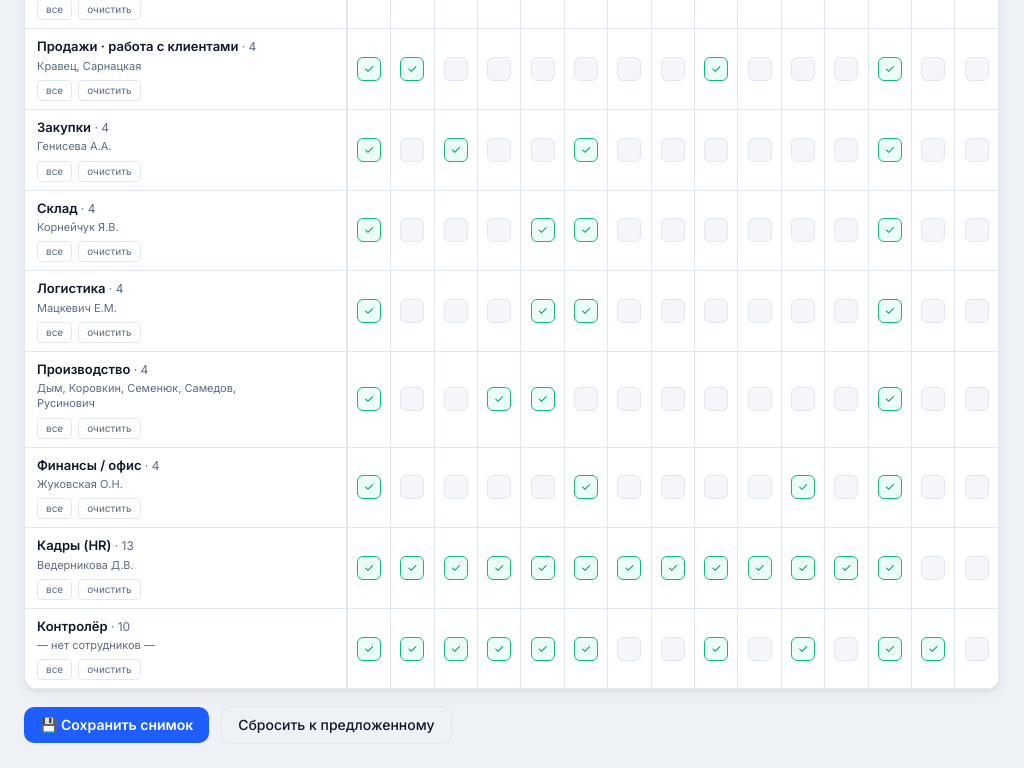
Test: AccessAdmin › «Сбросить к предложенному» возвращает изменённую строку и показывает тост
(page scrolled)
What coordinates should you click on to do the following:
click the button "очистить" below "— нет сотрудников —"
I would click on:
 (109, 670)
Its box is [78,659,141,680].
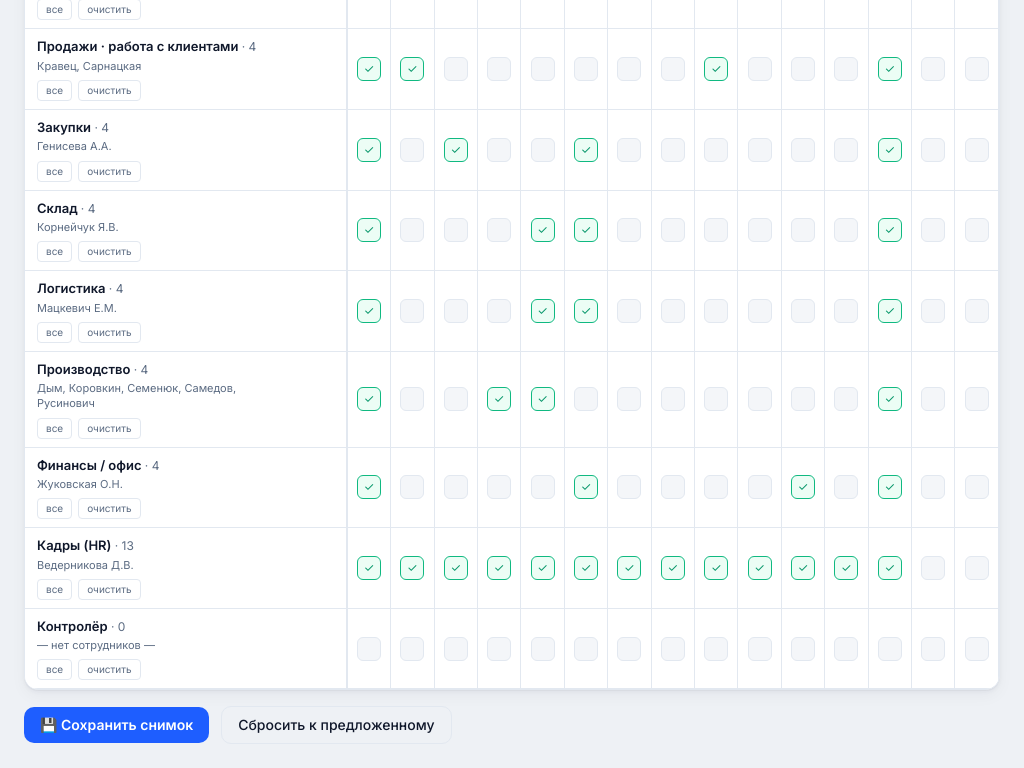
Result: the text "Контролёр" shows "· 0" at [25,609,999,689]
What coordinates should you click on to do the following:
click the button "Сбросить к предложенному"
I would click on:
 (336, 725)
Its box is [221,706,452,744].
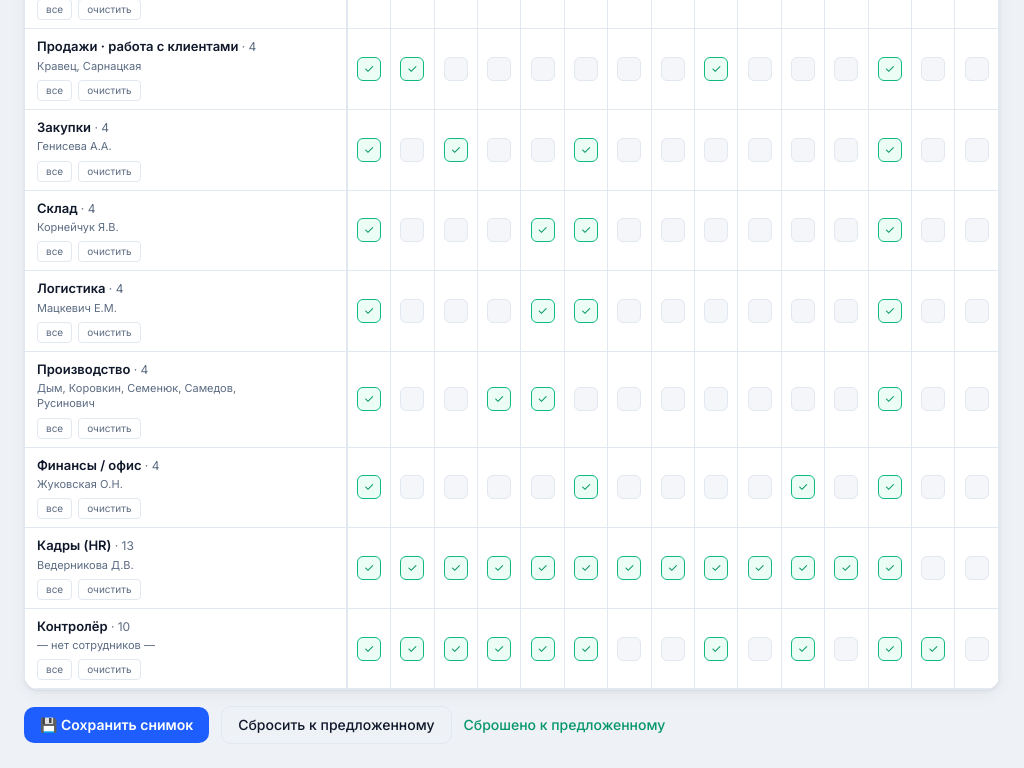
Result: the text "Сброшено к предложенному" is shown at [464,715,665,735]
Result: the text "Контролёр" shows "· 10" at [25,609,999,689]
